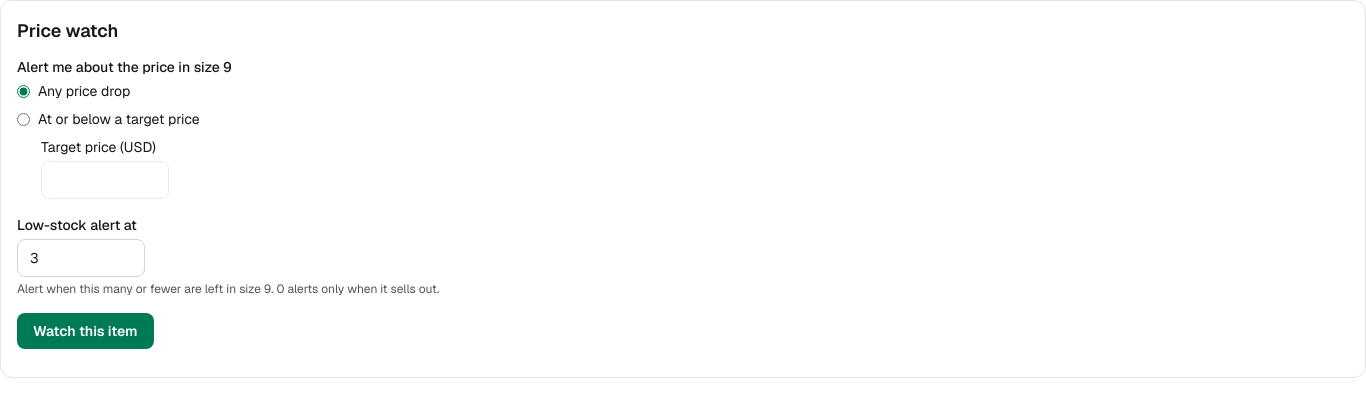
Test: WatchPanel › creates a watch for the saved size with POST, then refreshes and confirms
The image size is (1366, 415).
Click the button "Watch this item": (85, 331) [17,313,154,349]
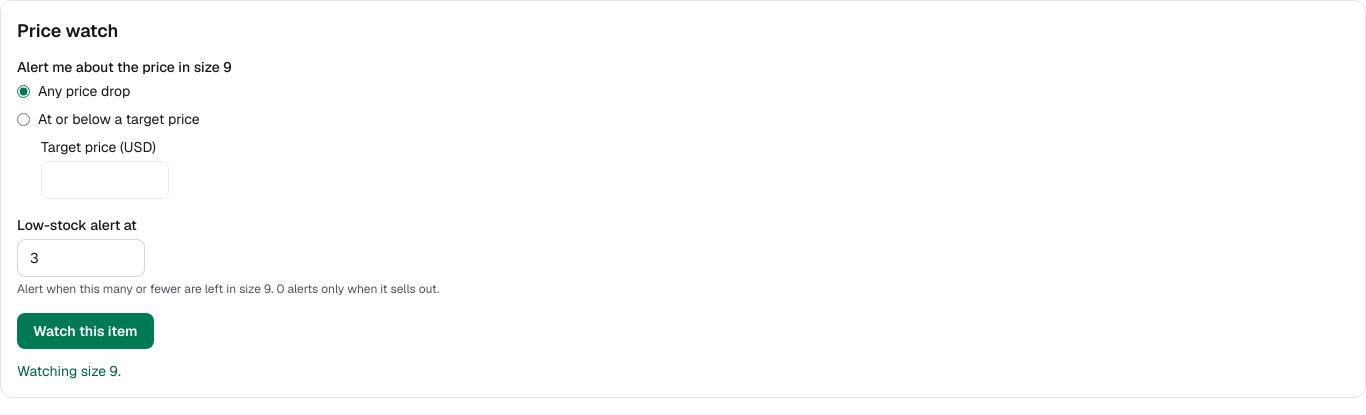
Check: the message reads "Watching size 9.", box [17,362,121,380]
